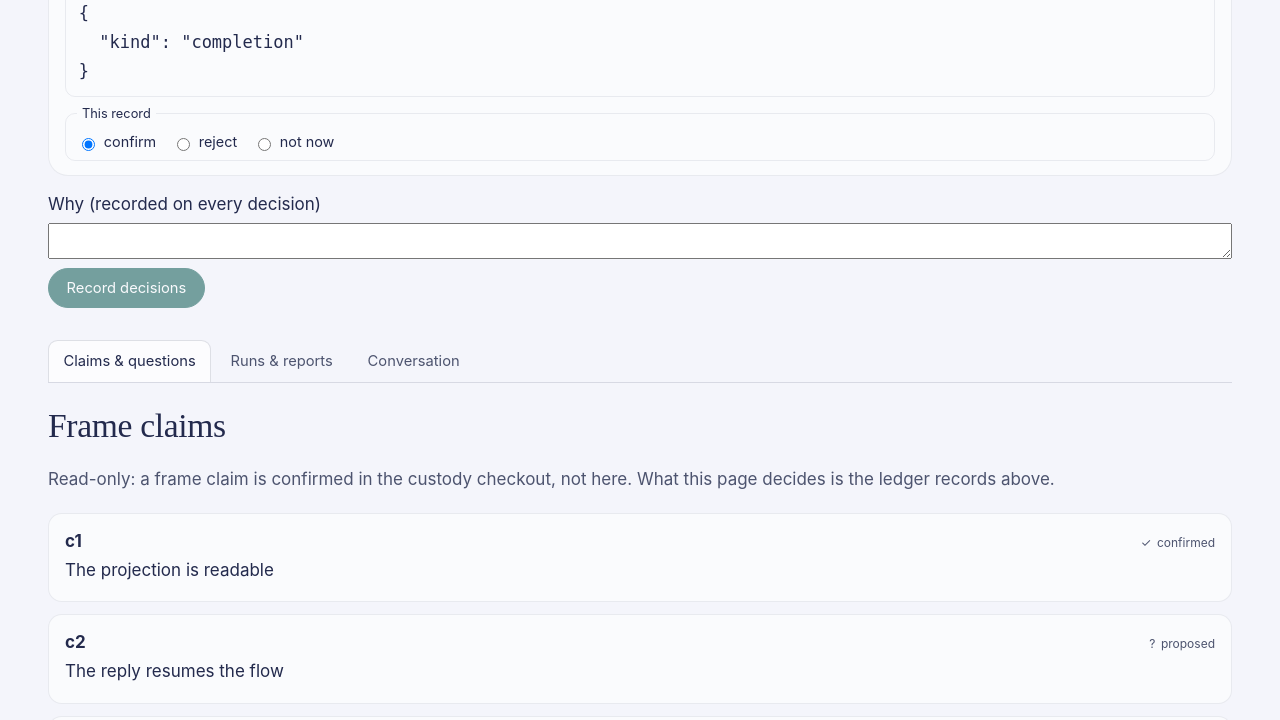
it: TicketView › renders the complete projection, every claim as icon plus word, and the exact Jira back-link
(page scrolled)
Check: the element showing "✓ confirmed" is shown, box top-left (1141, 533), bottom-right (1215, 553)
Check: the text "✓" does not show "", box top-left (1141, 533), bottom-right (1151, 553)
Click the tab "Runs & reports" at (282, 361), box top-left (215, 340), bottom-right (348, 382)
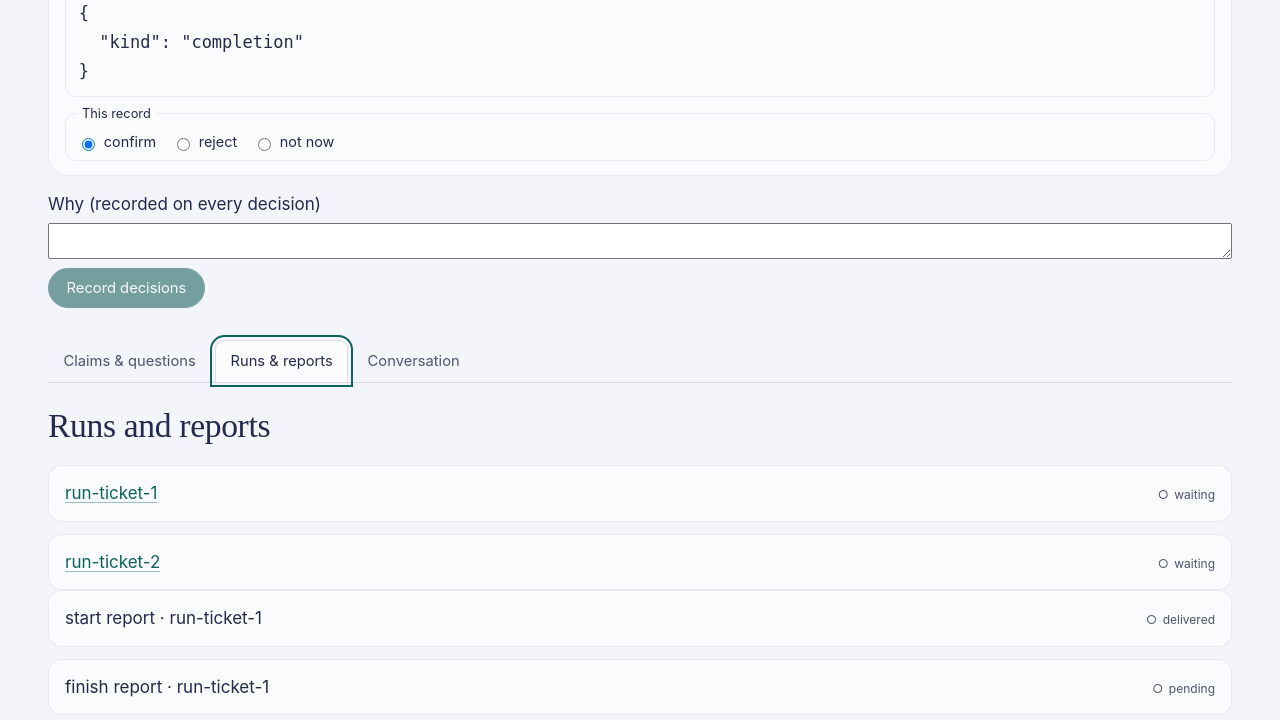
Check: the heading "Runs and reports" is shown, box top-left (48, 407), bottom-right (270, 444)
Click the tab "Conversation" at (414, 361), box top-left (352, 340), bottom-right (475, 382)
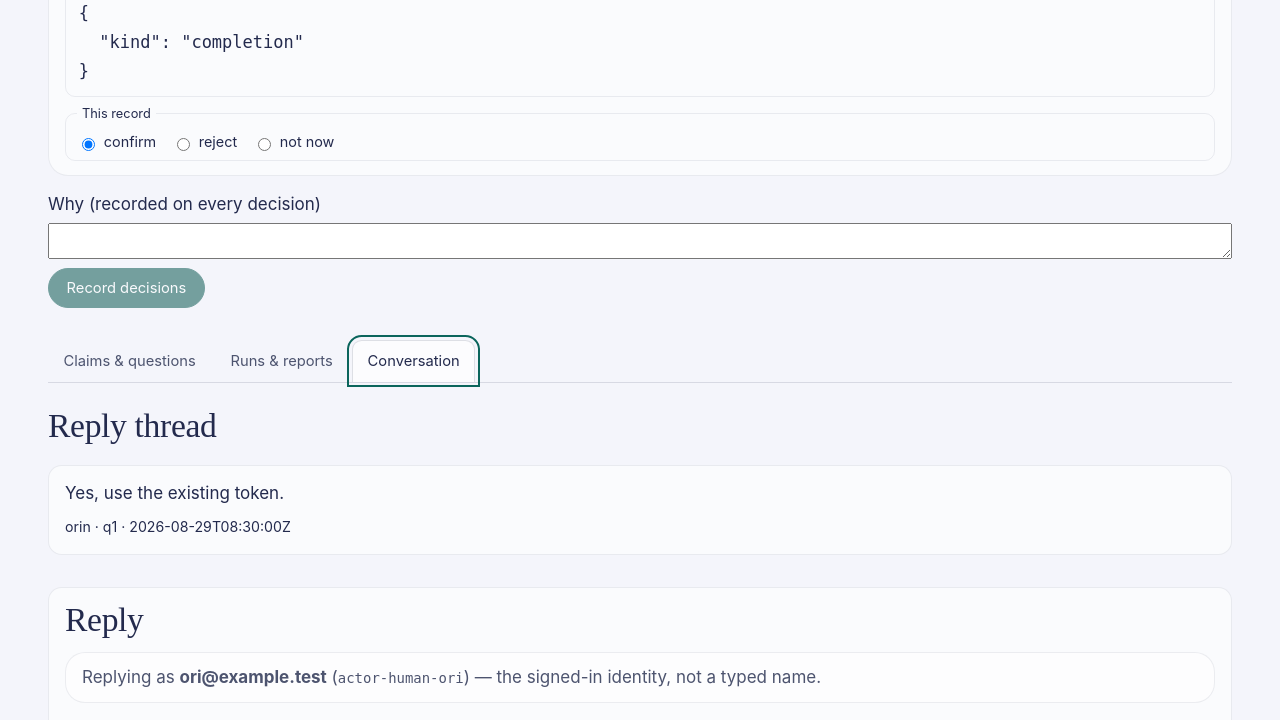
Check: the heading "Reply thread" is shown, box top-left (48, 407), bottom-right (216, 444)
Check: the text "Yes, use the existing token." is shown, box top-left (65, 483), bottom-right (284, 503)
